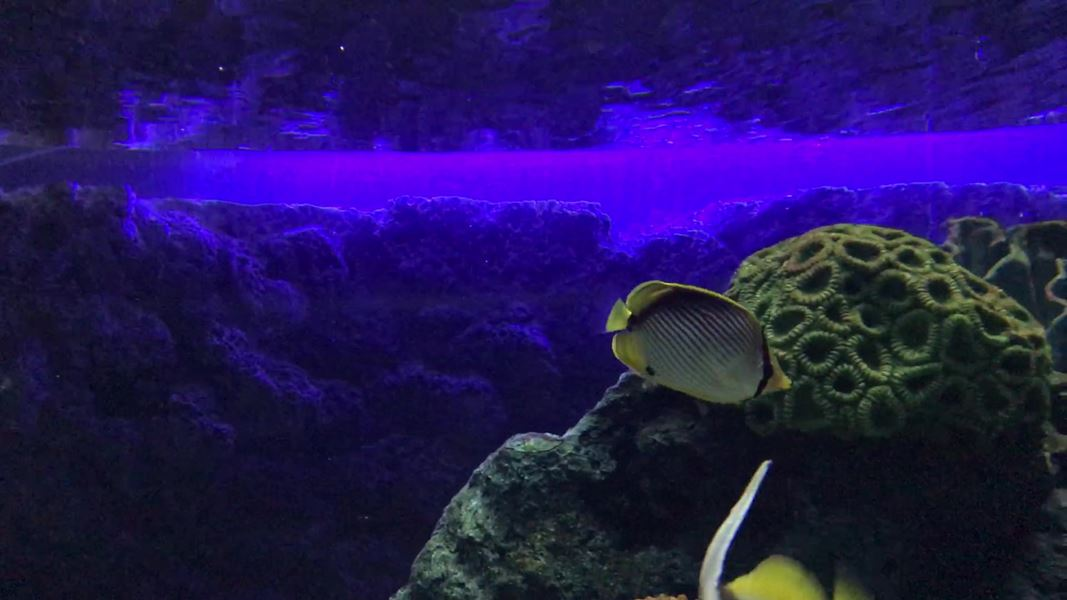Black-backed butterflyfish: (579, 273, 801, 413)
